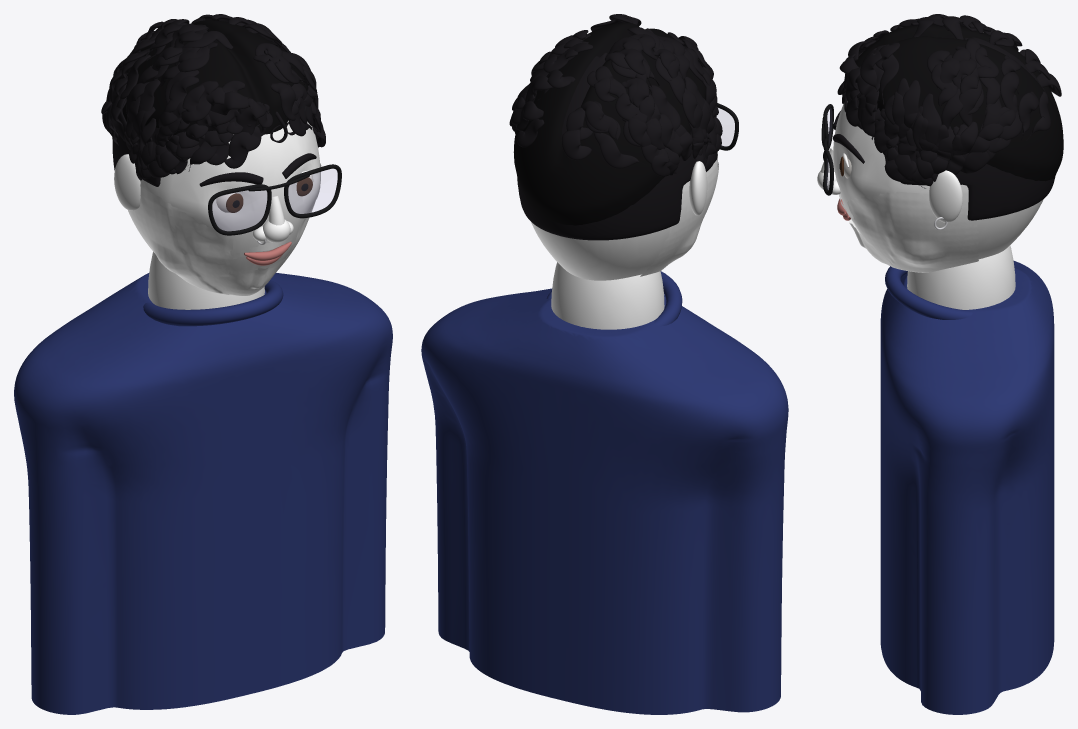
Rendered from avatar.glb.
The picture shows the model from 3 angles, left to right: view 1: azimuth 30°, elevation 25°; view 2: azimuth 150°, elevation 25°; view 3: azimuth 270°, elevation 25°; orthographic projection. The views are drawn at different scales.
Visible parts, largest first — view 1: Torso, Head, Beard, HairBase, Neck, Collar, Lens.-1, Lens.1, Ear.-1, Wave.009, Rim.-1, Rim.1 (+2 smaller); view 2: Torso, HairBase, HairCap, Neck, Head, Beard, Collar, Ear.-1, Wave.035, Wave.112, Wave.012, Wave.059; view 3: Torso, HairBase, Beard, Head, Neck, HairCap, Collar, Ear.1, Wave.098, Wave.109, Wave.085, Wave.056 (+12 smaller).
Boxes of the visible parts, left/top/right/bottom form: Torso: left=14, top=272, right=392, bottom=714; Head: left=141, top=120, right=320, bottom=271; Beard: left=128, top=163, right=321, bottom=295; HairBase: left=112, top=20, right=308, bottom=137; Neck: left=148, top=251, right=264, bottom=309; Collar: left=143, top=280, right=283, bottom=326; Lens.-1: left=213, top=191, right=266, bottom=230; Lens.1: left=289, top=169, right=336, bottom=213; Ear.-1: left=114, top=154, right=140, bottom=210; Wave.009: left=224, top=126, right=261, bottom=168; Rim.-1: left=208, top=184, right=271, bottom=235; Rim.1: left=284, top=164, right=341, bottom=218; Torso: left=421, top=288, right=788, bottom=714; HairBase: left=513, top=22, right=705, bottom=225; HairCap: left=517, top=52, right=717, bottom=240; Neck: left=551, top=262, right=664, bottom=329; Head: left=531, top=151, right=717, bottom=280; Beard: left=640, top=162, right=718, bottom=276; Collar: left=546, top=271, right=682, bottom=326; Ear.-1: left=689, top=161, right=707, bottom=215; Wave.035: left=594, top=132, right=638, bottom=168; Wave.112: left=581, top=101, right=620, bottom=140; Wave.012: left=561, top=130, right=591, bottom=160; Wave.059: left=648, top=85, right=680, bottom=131; Torso: left=880, top=261, right=1054, bottom=714; HairBase: left=855, top=24, right=1063, bottom=181; Beard: left=839, top=184, right=979, bottom=272; Head: left=833, top=101, right=1043, bottom=259; Neck: left=907, top=245, right=1015, bottom=309; HairCap: left=900, top=37, right=1055, bottom=220; Collar: left=885, top=266, right=972, bottom=319; Ear.1: left=929, top=170, right=962, bottom=222; Wave.098: left=921, top=93, right=941, bottom=144; Wave.109: left=1000, top=72, right=1019, bottom=112; Wave.085: left=959, top=78, right=981, bottom=126; Wave.056: left=1018, top=91, right=1038, bottom=140.
Bounding box in the file's own units: 3.24 × 5.58 × 2.04.
